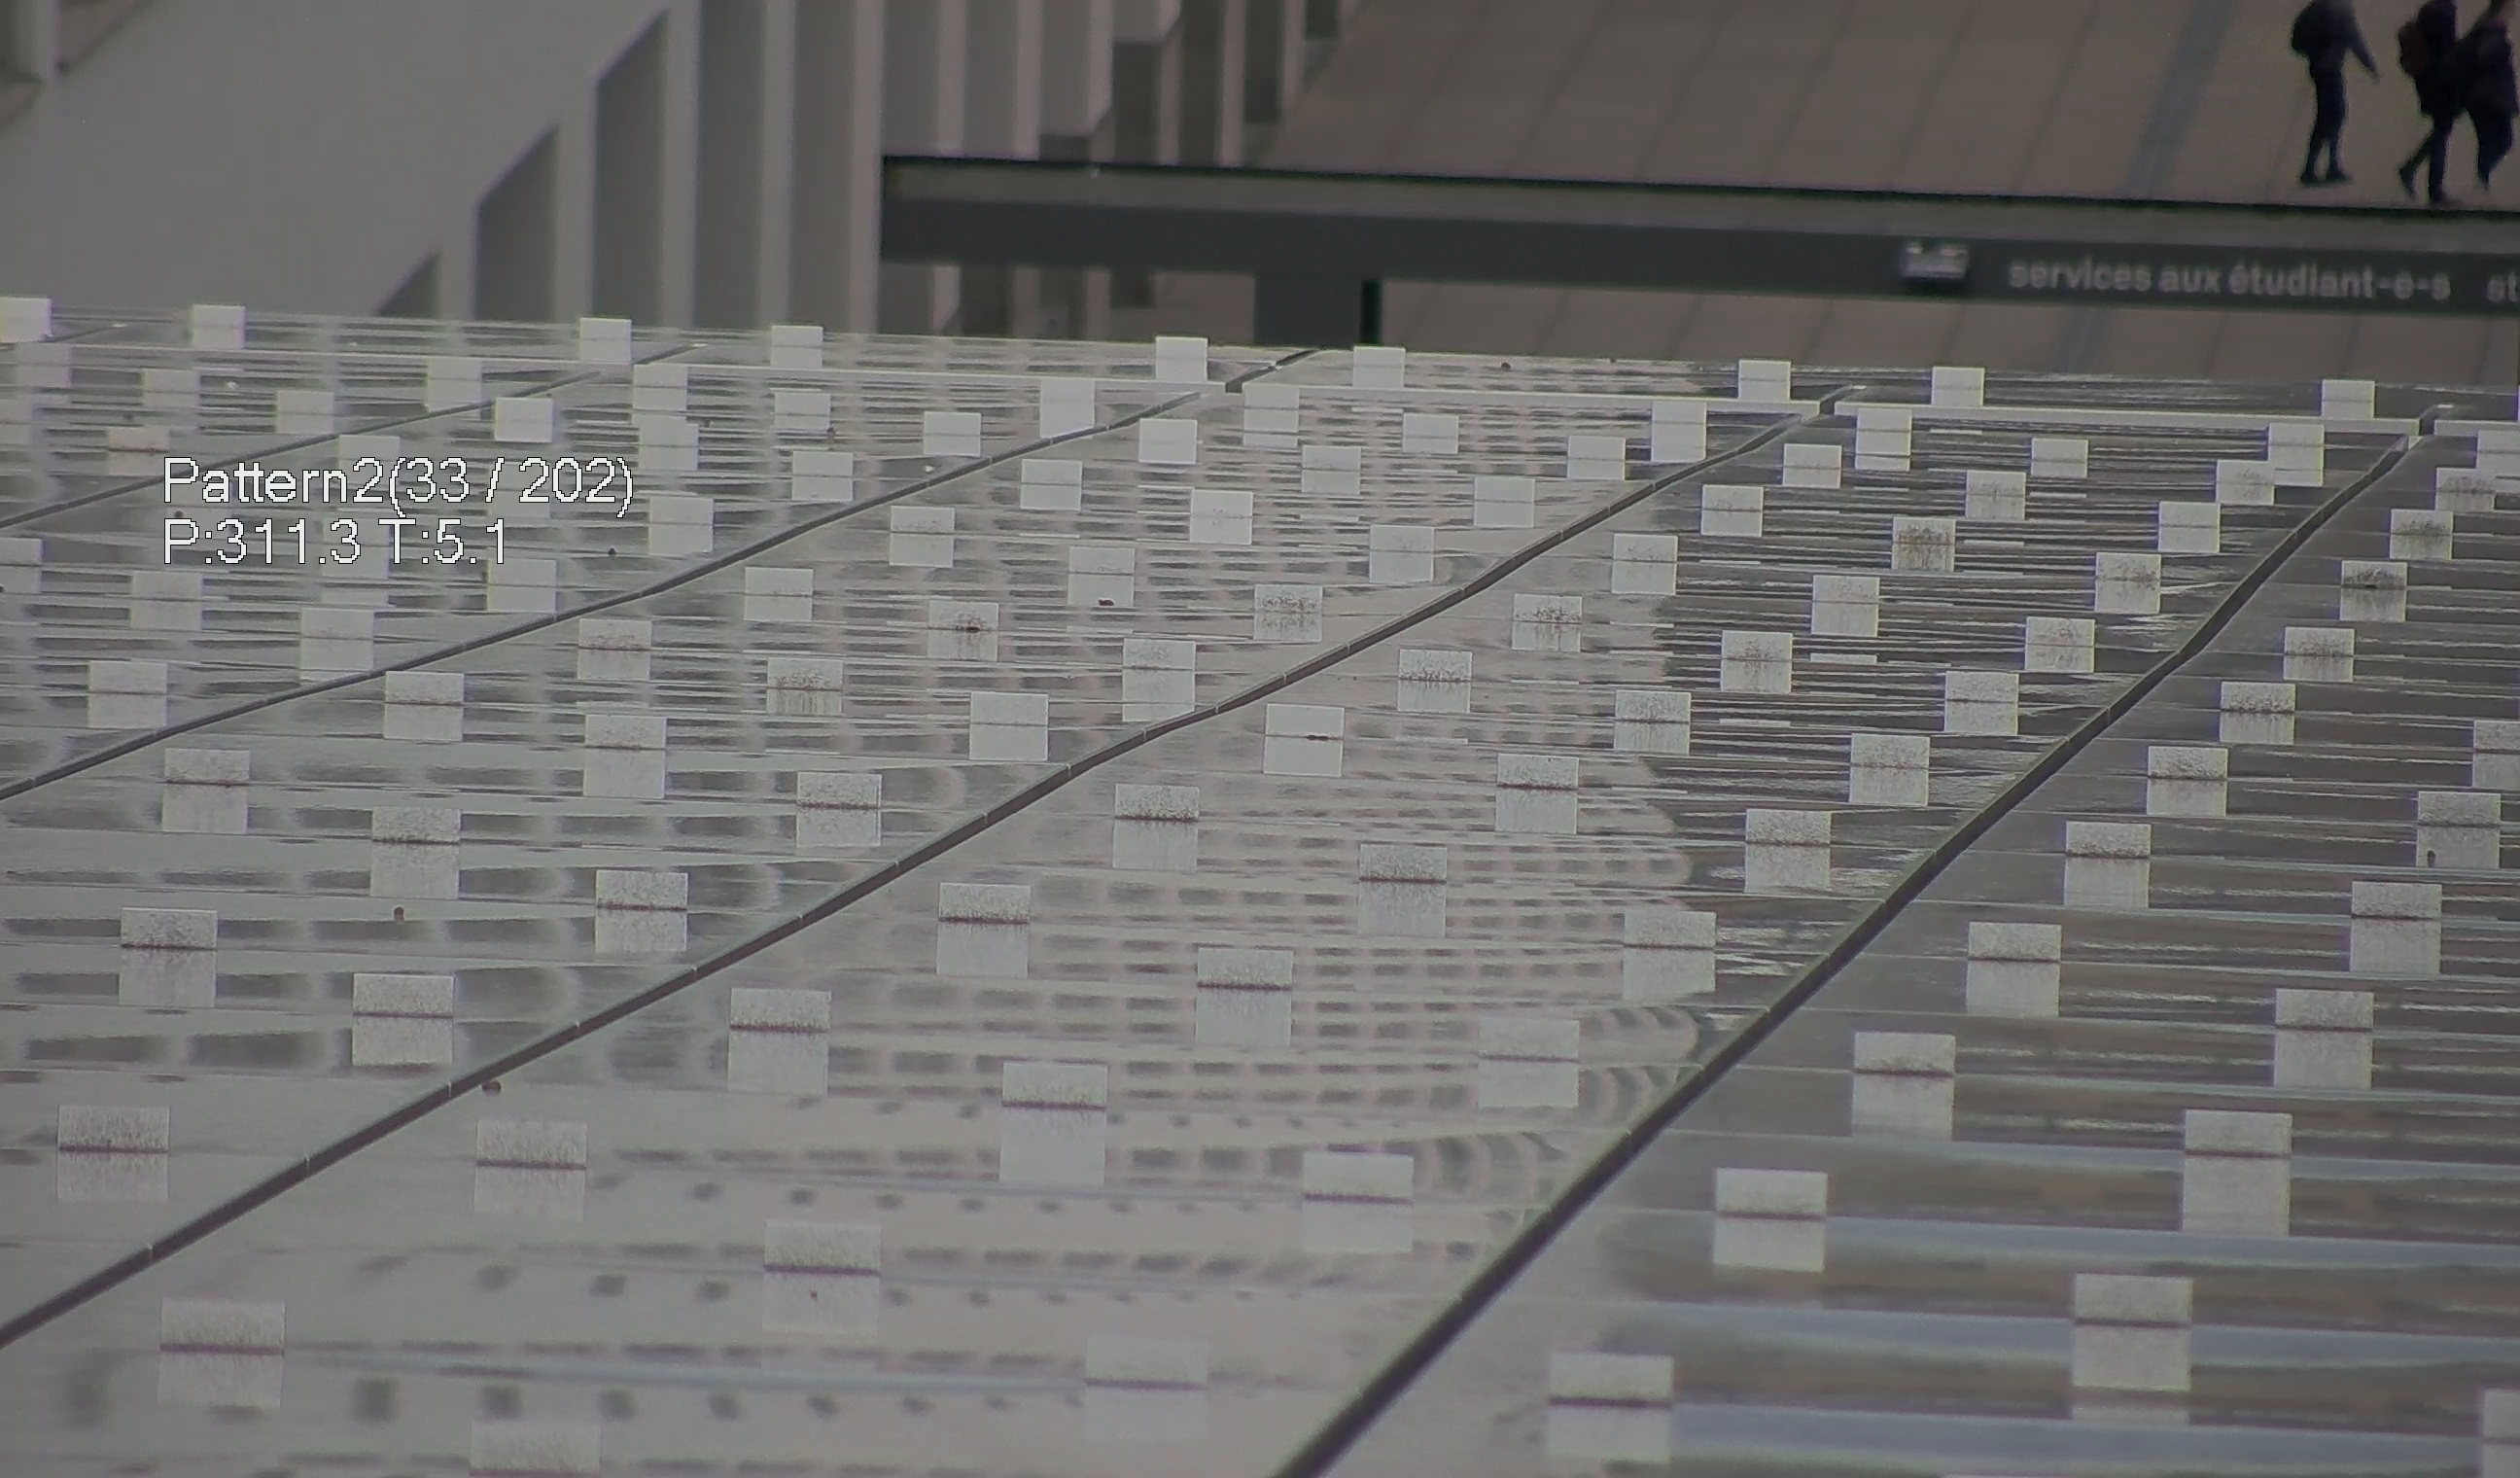Other: (2293, 0, 2406, 187)
